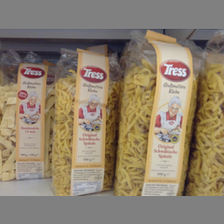pasta: (115, 30, 202, 197), (54, 49, 120, 195), (1, 50, 54, 180)
